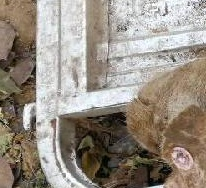text: (161, 135, 206, 176)
